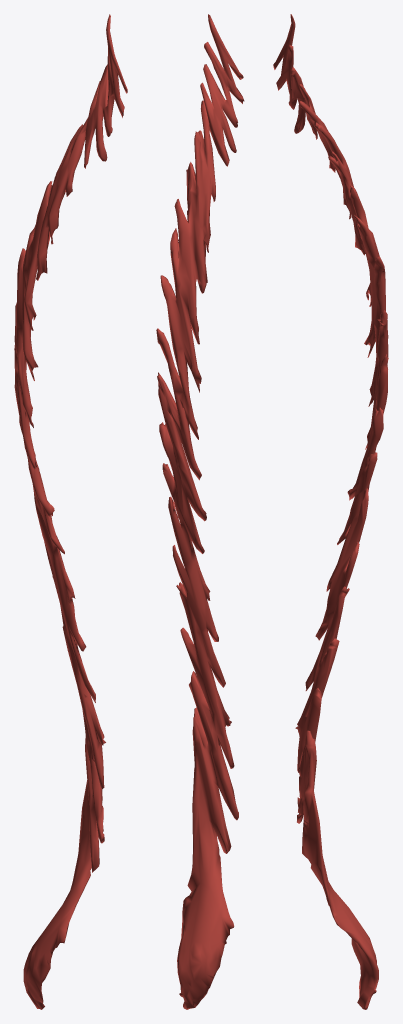
Rendered from musculos-rotatores-r.glb.
3 views of the same model, side by side, from view 1: azimuth 90°, elevation 25°; view 2: azimuth 150°, elevation 25°; view 3: azimuth 270°, elevation 25° (orthographic). The views are drawn at different scales.
Visible parts, largest first — view 1: Rotatores.r; view 2: Rotatores.r; view 3: Rotatores.r.
Boxes of the visible parts, box(x1,y1,x2,y2) form: Rotatores.r: box(14, 14, 127, 1009); Rotatores.r: box(156, 14, 244, 1009); Rotatores.r: box(273, 14, 388, 1009).
Size of the model in its own units: 0.0382 by 0.6354 by 0.0662.
